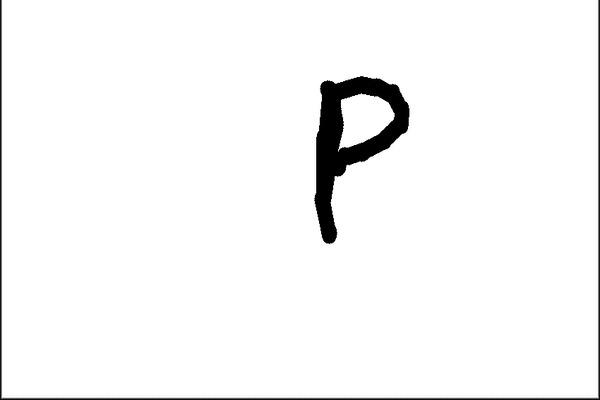P: (297, 65, 419, 256)
